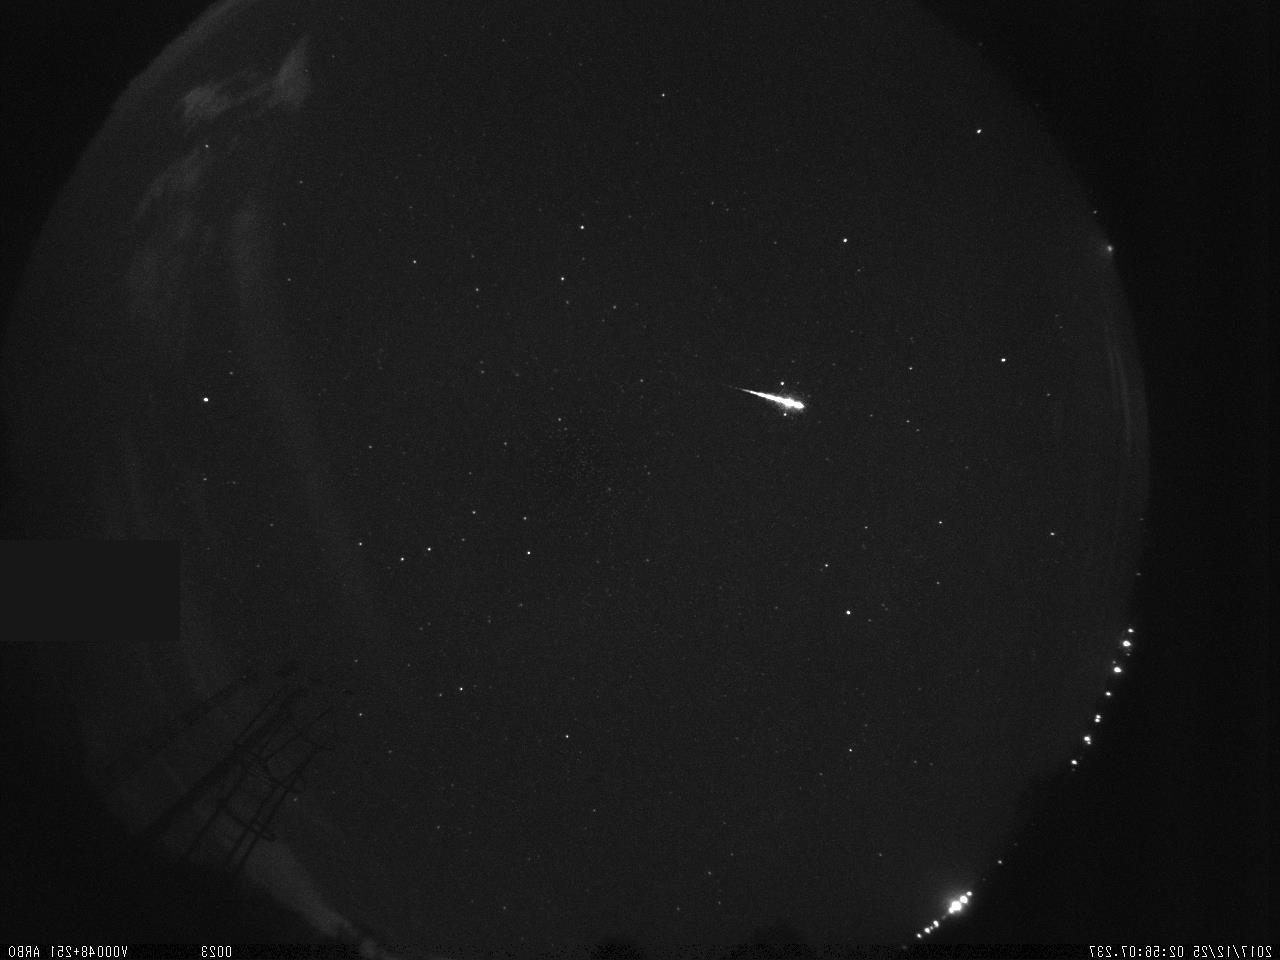meteor: (726, 384, 809, 420)
